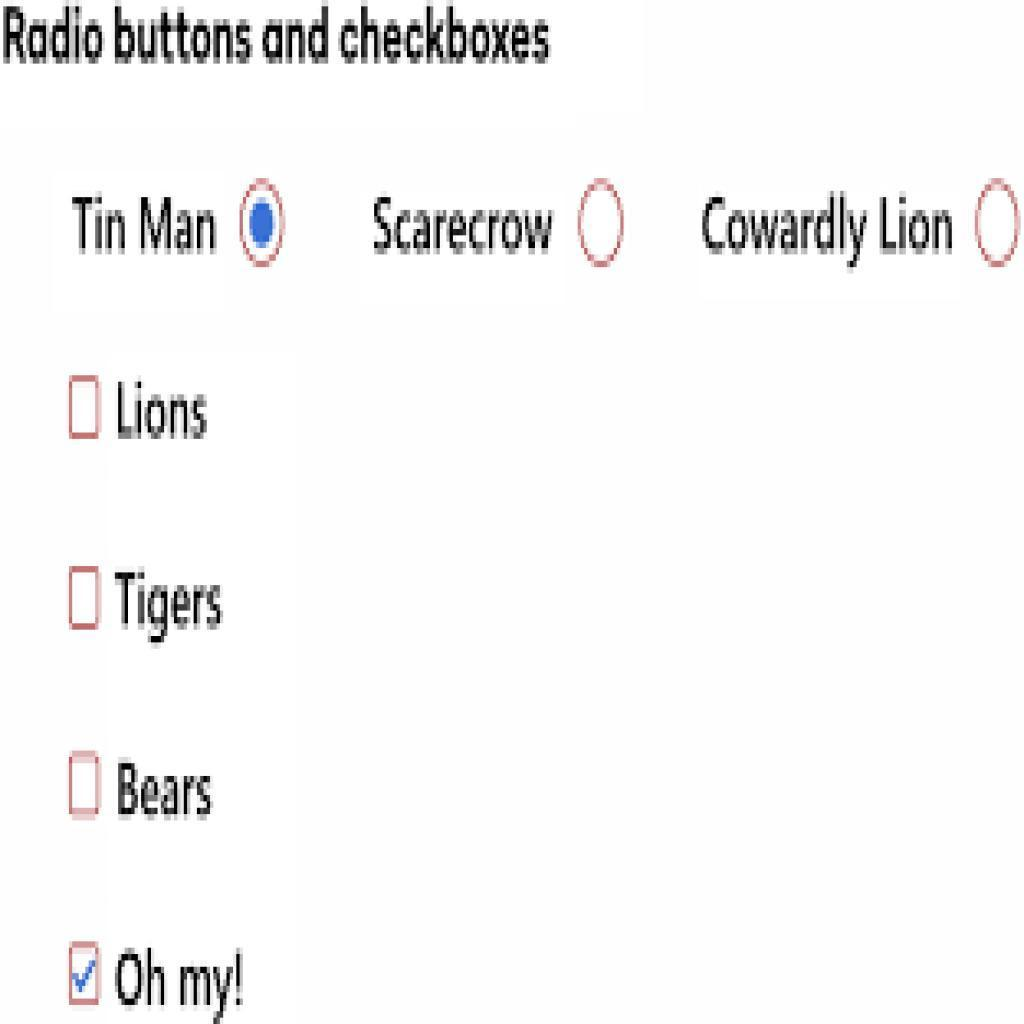checkbox: (70, 754, 105, 815), (71, 568, 101, 629), (70, 379, 100, 438), (70, 943, 99, 1003)
label: (697, 194, 955, 258), (365, 193, 555, 256), (73, 190, 219, 260), (107, 949, 252, 1018), (115, 566, 226, 634), (110, 376, 222, 440), (112, 761, 216, 827)
radio: (971, 173, 1023, 270), (241, 171, 286, 278), (580, 180, 628, 276)
